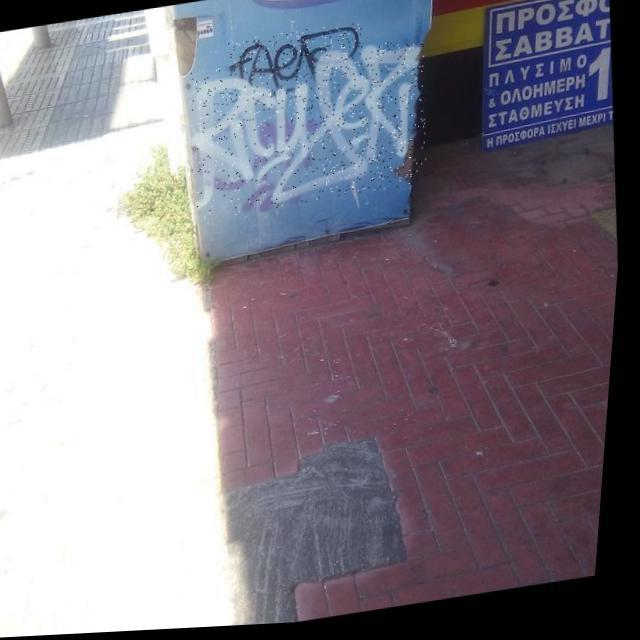-: (183, 41, 439, 220), (188, 117, 330, 224), (224, 24, 367, 100)
